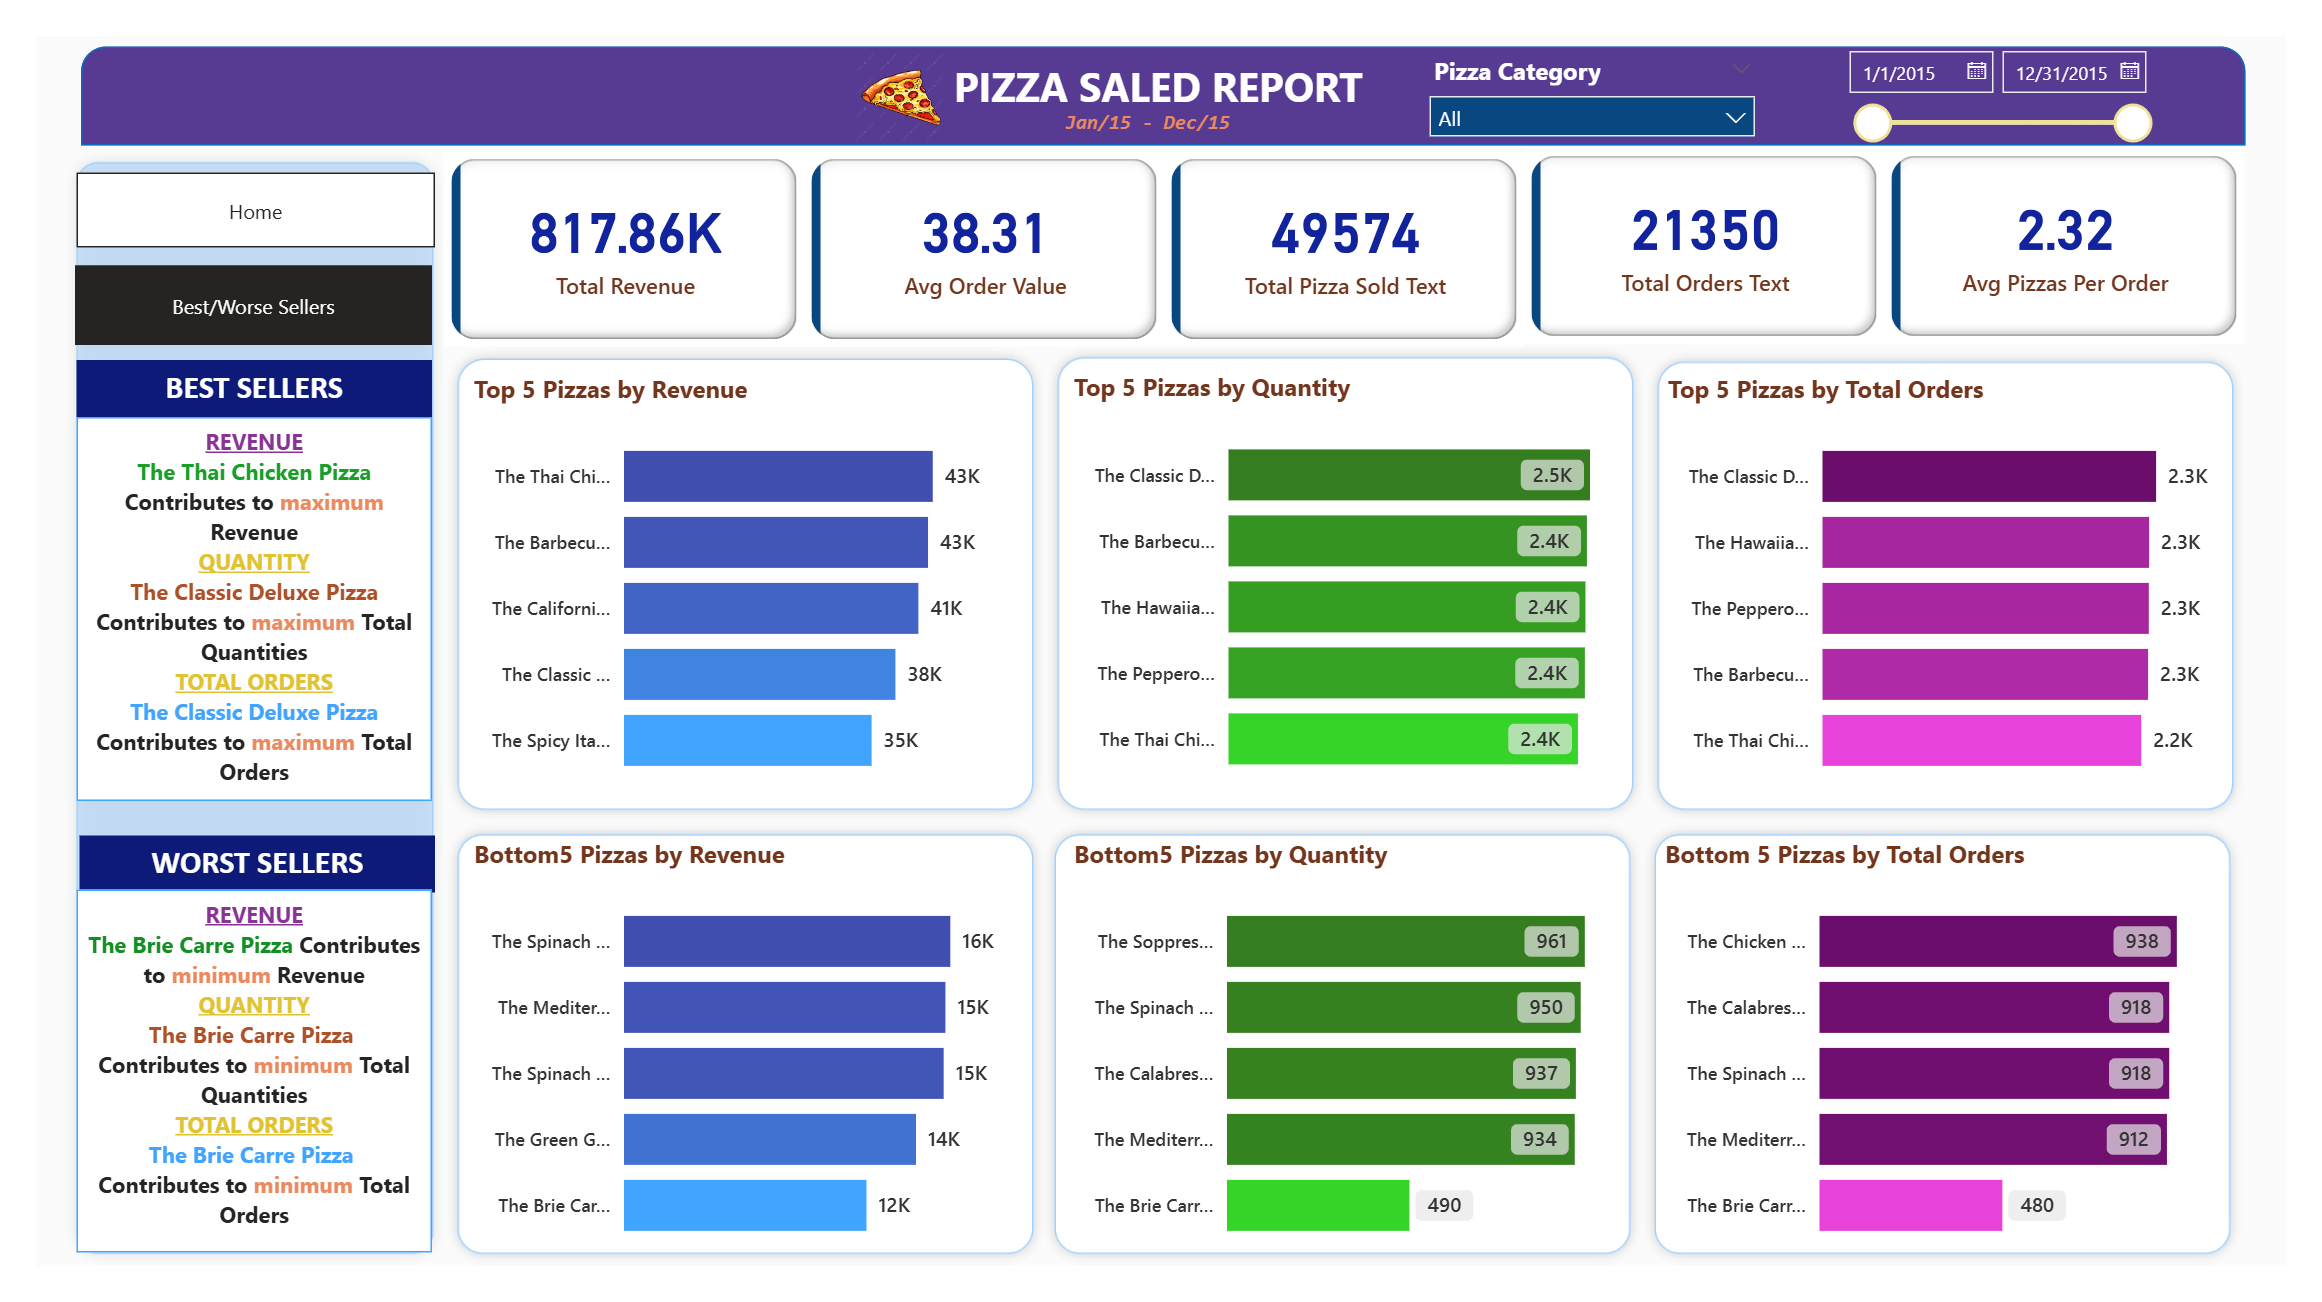

What the dashboard file says about the page in this screenshot:
{"tool":"powerbi","page":{"name":"Best/Worse Sellers","canvas":[1500,820],"ordinal":1},"visuals":[{"type":"cardVisual","fields":{"Data":["pizza_sales.Total Revenue"]},"box":[271.7,76.6,240,130],"z":0},{"type":"cardVisual","fields":{"Data":["pizza_sales.Total Pizza Sold Text"]},"box":[751.7,76.6,240,130],"z":1000},{"type":"cardVisual","fields":{"Data":["pizza_sales.Avg Pizzas Per Order"]},"box":[1231.7,75.1,240,130],"z":2000},{"type":"cardVisual","fields":{"Data":["pizza_sales.Avg Order Value"]},"box":[511.7,76.6,240,130],"z":3000},{"type":"cardVisual","fields":{"Data":["pizza_sales.Total Orders Text"]},"box":[991.7,75.1,240,130],"z":4000},{"type":"shape","box":[30,7.1,1442.9,65.7],"z":5000},{"type":"textbox","box":[607.1,10,287.1,50],"z":6000},{"type":"textbox","box":[681.4,42.9,135.7,32.9],"z":7000},{"type":"image","box":[540,4.3,74.3,75.7],"z":8000},{"type":"shape","box":[272.9,207.1,400,317.1],"z":9000},{"type":"shape","box":[18.6,75.7,254.3,744.3],"z":11000},{"type":"textbox","box":[27.1,215.7,237.1,38.6],"z":12000},{"type":"textbox","box":[27.1,254.3,237.1,255.7],"z":13000},{"type":"textbox","box":[28.6,532.9,237.1,38.6],"z":14000},{"type":"textbox","box":[27.1,568.6,237.1,242.9],"z":15000},{"type":"slicer","fields":{"Values":["pizza_sales.pizza_category"]},"box":[918.6,7.1,237.1,60],"z":16000},{"type":"slicer","fields":{"Values":["pizza_sales.order_date"]},"box":[1195.7,0,222.9,85.7],"z":17000},{"type":"shape","box":[672.9,205.7,400,318.6],"z":18000},{"type":"shape","box":[1072.9,208.6,400,315.7],"z":19000},{"type":"shape","box":[272.9,524.3,400,295.7],"z":20000},{"type":"shape","box":[671.4,524.3,400,295.7],"z":21000},{"type":"shape","box":[1071.4,524.3,400,295.7],"z":22000},{"type":"barChart","title":"Top 5 Pizzas by Revenue","fields":{"Category":["pizza_sales.pizza_name"],"Y":["pizza_sales.Total Revenue"]},"box":[287.1,224.3,370,285.7],"z":23000},{"type":"barChart","title":"Bottom5 Pizzas by Revenue","fields":{"Category":["pizza_sales.pizza_name"],"Y":["pizza_sales.Total Revenue"]},"box":[287.1,534.3,370,285.7],"z":24000},{"type":"barChart","title":"Top 5 Pizzas by Quantity","fields":{"Category":["pizza_sales.pizza_name"],"Y":["pizza_sales.Total Pizza Sold"]},"box":[687.1,222.9,380,285.7],"z":25000},{"type":"barChart","title":"Bottom5 Pizzas by Quantity","fields":{"Category":["pizza_sales.pizza_name"],"Y":["pizza_sales.Total Pizza Sold"]},"box":[687.1,534.3,377.1,285.7],"z":26000},{"type":"barChart","title":"Top 5 Pizzas by Total Orders","fields":{"Category":["pizza_sales.pizza_name"],"Y":["pizza_sales.Total Orders"]},"box":[1082.9,224.3,380,285.7],"z":27000},{"type":"barChart","title":"Bottom 5 Pizzas by Total Orders","fields":{"Category":["pizza_sales.pizza_name"],"Y":["pizza_sales.Total Orders"]},"box":[1081.4,534.3,380,285.7],"z":28000},{"type":"pageNavigator","box":[27.1,91.4,238.6,50],"z":29000},{"type":"pageNavigator","box":[25.7,152.9,238.6,52.9],"z":30000}]}

Visuals, with their boxes in screenshot pixels (x1, y1, x2, y2), scaled from the page's 1500x820 canvas onto the 2322x1302 screenshot:
cardVisual - pizza_sales.Total Revenue: locate(421, 122, 792, 328)
cardVisual - pizza_sales.Total Pizza Sold Text: locate(1164, 122, 1535, 328)
cardVisual - pizza_sales.Avg Pizzas Per Order: locate(1907, 119, 2278, 326)
cardVisual - pizza_sales.Avg Order Value: locate(792, 122, 1164, 328)
cardVisual - pizza_sales.Total Orders Text: locate(1535, 119, 1907, 326)
shape: locate(46, 11, 2280, 116)
textbox: locate(940, 16, 1384, 95)
textbox: locate(1055, 68, 1265, 120)
image: locate(836, 7, 951, 127)
shape: locate(422, 329, 1042, 832)
shape: locate(29, 120, 422, 1301)
textbox: locate(42, 342, 409, 404)
textbox: locate(42, 404, 409, 810)
textbox: locate(44, 846, 411, 907)
textbox: locate(42, 903, 409, 1289)
slicer - pizza_sales.pizza_category: locate(1422, 11, 1789, 107)
slicer - pizza_sales.order_date: locate(1851, 0, 2196, 136)
shape: locate(1042, 327, 1661, 832)
shape: locate(1661, 331, 2280, 832)
shape: locate(422, 832, 1042, 1301)
shape: locate(1039, 832, 1659, 1301)
shape: locate(1659, 832, 2278, 1301)
"Top 5 Pizzas by Revenue" barChart: locate(444, 356, 1017, 810)
"Bottom5 Pizzas by Revenue" barChart: locate(444, 848, 1017, 1301)
"Top 5 Pizzas by Quantity" barChart: locate(1064, 354, 1652, 808)
"Bottom5 Pizzas by Quantity" barChart: locate(1064, 848, 1647, 1301)
"Top 5 Pizzas by Total Orders" barChart: locate(1676, 356, 2265, 810)
"Bottom 5 Pizzas by Total Orders" barChart: locate(1674, 848, 2262, 1301)
pageNavigator: locate(42, 145, 411, 225)
pageNavigator: locate(40, 243, 409, 327)
